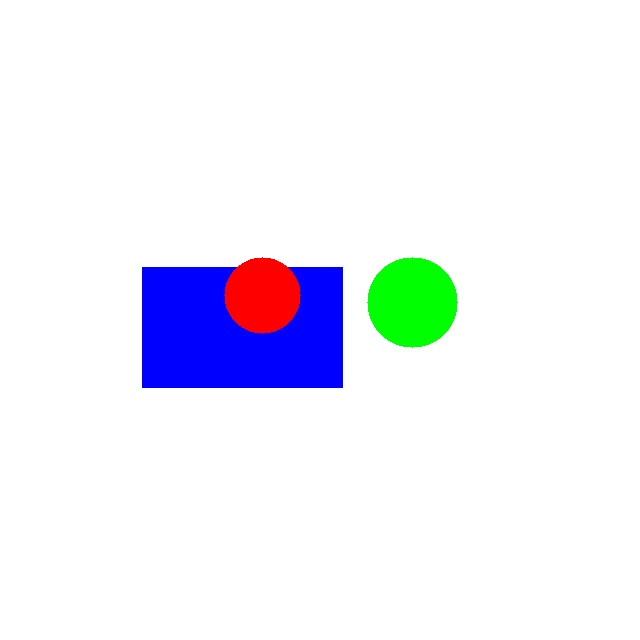cartao: (142, 267, 342, 387)
rosca_externa: (367, 257, 457, 347)
rosca_interna: (224, 257, 300, 333)
